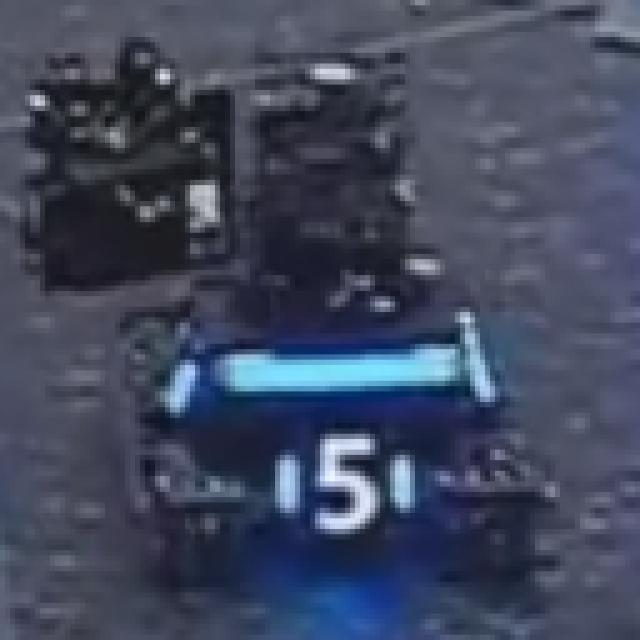B5: (275, 439, 420, 540)
